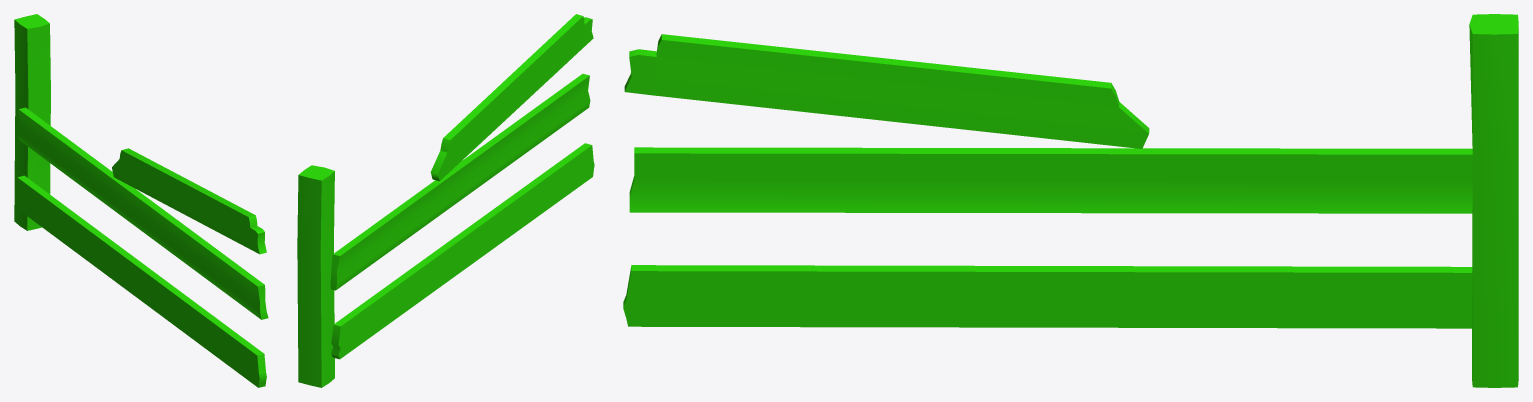
The model's file is Farm_Fence_01C.fbx.
The picture shows the model from 3 angles, left to right: view 1: azimuth 30°, elevation 25°; view 2: azimuth 150°, elevation 25°; view 3: azimuth 270°, elevation 25°; orthographic projection. The views are drawn at different scales.
Visible parts, largest first — view 1: Farm_Fence_01C; view 2: Farm_Fence_01C; view 3: Farm_Fence_01C.
Part boxes in pixels (<box>): Farm_Fence_01C: <box>14,14,268,387</box>; Farm_Fence_01C: <box>297,14,594,387</box>; Farm_Fence_01C: <box>623,14,1518,387</box>.
Bounding box in the file's own units: 24.2 × 134 × 309.
